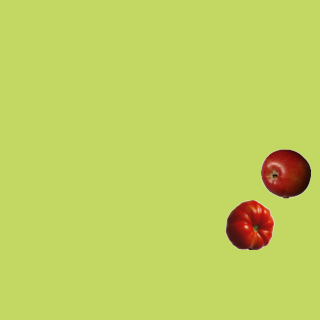Apple Braeburn: (260, 148, 310, 198)
Tomato 3: (224, 199, 274, 249)
